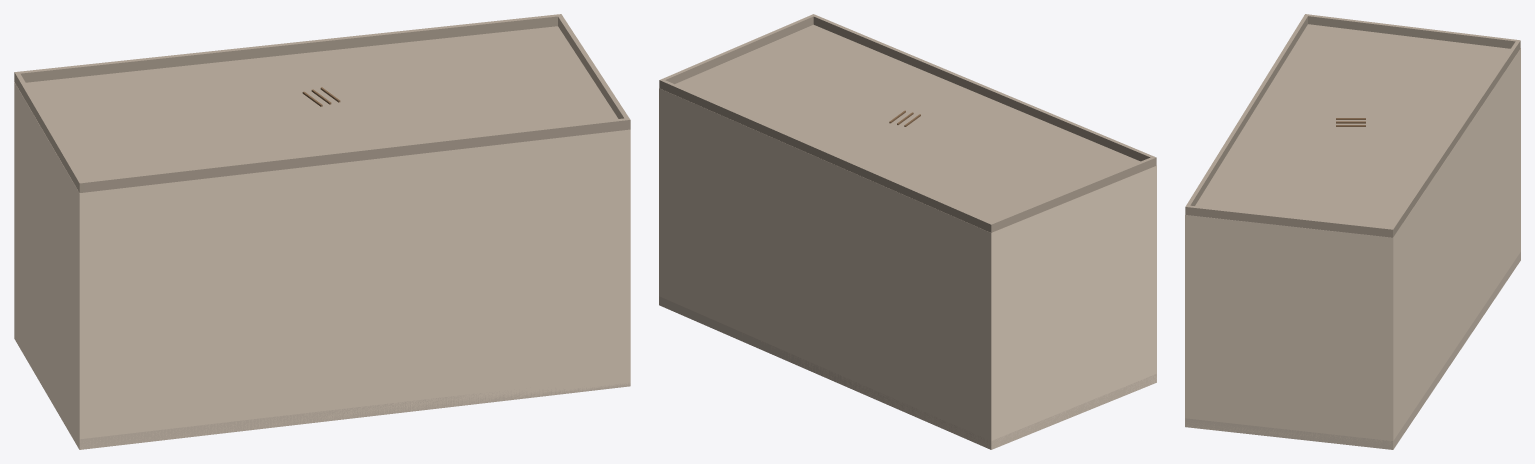
Rendered from cop_predio_historico_05__way_42432240.fbx.
The picture shows the model from 3 angles, left to right: view 1: azimuth 30°, elevation 25°; view 2: azimuth 150°, elevation 25°; view 3: azimuth 270°, elevation 25°; orthographic projection. The views are drawn at different scales.
Parts seen in each view (by area): view 1: cop_predio_historico_05__way_42432240_wall, cop_predio_historico_05__way_42432240_roof, cop_predio_historico_05__way_42432240_stone; view 2: cop_predio_historico_05__way_42432240_wall, cop_predio_historico_05__way_42432240_roof, cop_predio_historico_05__way_42432240_stone; view 3: cop_predio_historico_05__way_42432240_wall, cop_predio_historico_05__way_42432240_roof, cop_predio_historico_05__way_42432240_stone.
Part boxes in pixels (x1,y1,x2,y2): cop_predio_historico_05__way_42432240_wall: (14, 82, 630, 449); cop_predio_historico_05__way_42432240_roof: (14, 14, 630, 193); cop_predio_historico_05__way_42432240_stone: (79, 383, 630, 449); cop_predio_historico_05__way_42432240_wall: (659, 88, 1156, 449); cop_predio_historico_05__way_42432240_roof: (659, 14, 1156, 232); cop_predio_historico_05__way_42432240_stone: (659, 296, 1156, 449); cop_predio_historico_05__way_42432240_wall: (1185, 48, 1520, 449); cop_predio_historico_05__way_42432240_roof: (1185, 14, 1520, 237); cop_predio_historico_05__way_42432240_stone: (1185, 252, 1520, 449).
Bounding box in the file's own units: 3930 × 1877 × 2583.
